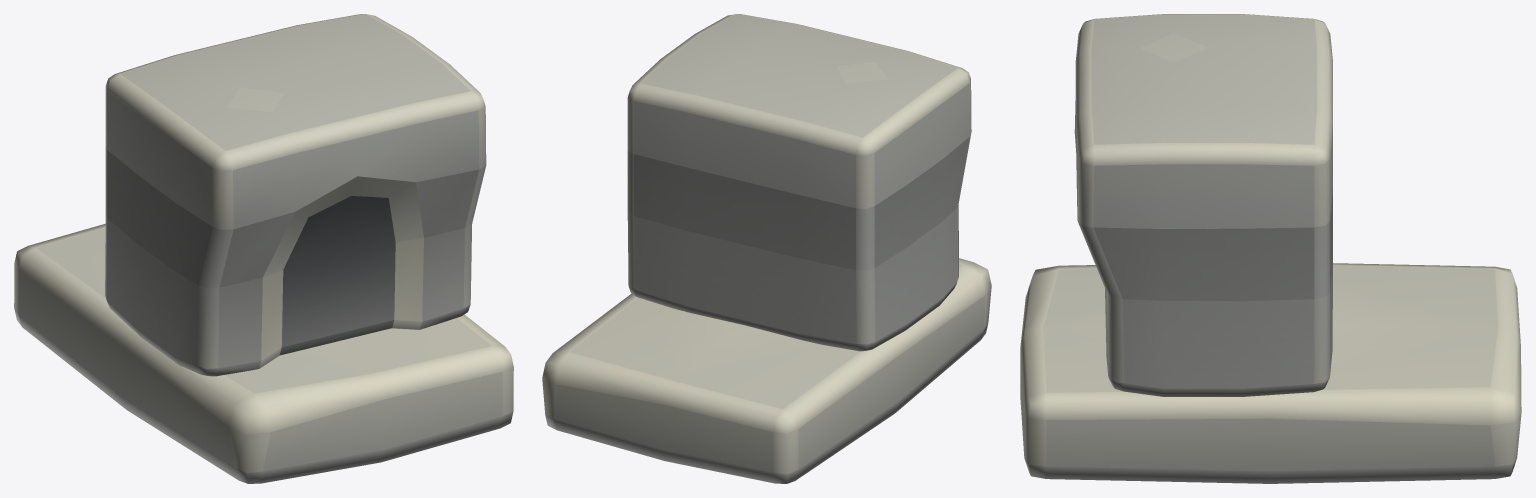
Rendered from ballustrade_ornate1_LOD_setup.fbx.
3 views of the same model, side by side, from view 1: azimuth 30°, elevation 25°; view 2: azimuth 150°, elevation 25°; view 3: azimuth 270°, elevation 25° (orthographic). The views are drawn at different scales.
Parts seen in each view (by area): view 1: ballustrade_ornate1_LOD0; view 2: ballustrade_ornate1_LOD0; view 3: ballustrade_ornate1_LOD0.
Boxes of the visible parts, x1=… form: ballustrade_ornate1_LOD0: x1=14, y1=14, x2=513, y2=483; ballustrade_ornate1_LOD0: x1=542, y1=14, x2=991, y2=483; ballustrade_ornate1_LOD0: x1=1020, y1=14, x2=1521, y2=483.
Size of what is drawn, in the model's own units: 108 by 121 by 158.
